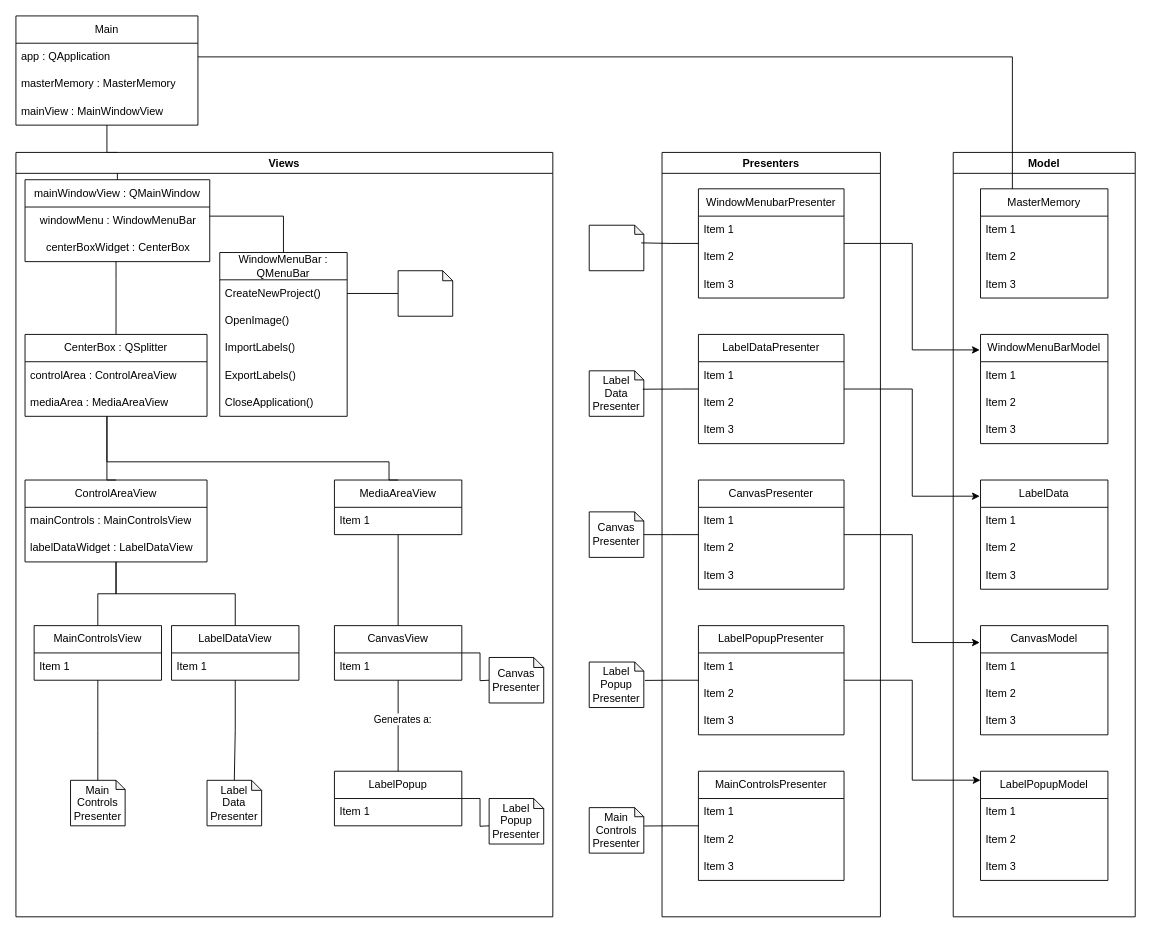
Image size: 1151x933. Some labels were removed from this diagram. The shapes that lost their labels are listed below. From the top down, each one's centre as x and y in pixels, then its label:
[616,247]: Window Menu Bar
[425,293]: Window Menubar Presenter
